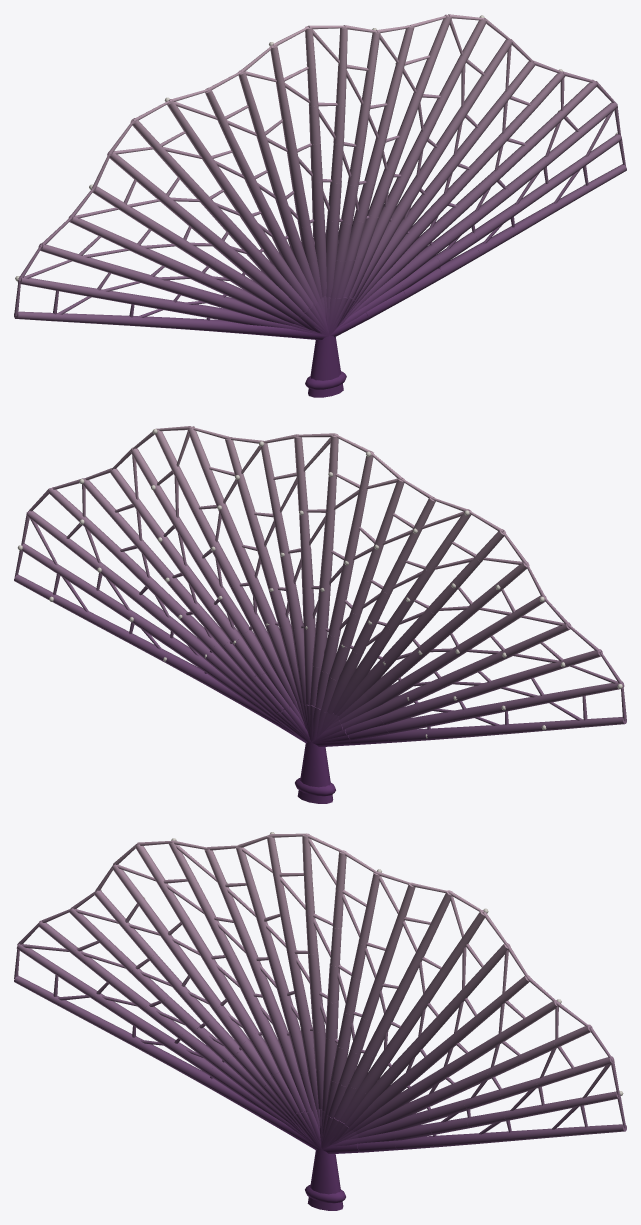
The model's file is coral_fan.glb.
3 renders of one model, top to bottom at view 1: azimuth 30°, elevation 25°; view 2: azimuth 150°, elevation 25°; view 3: azimuth 330°, elevation 25°, orthographic.
Parts seen in each view (by area): view 1: Pelagic.coral_fan.Surface; view 2: Pelagic.coral_fan.Surface; view 3: Pelagic.coral_fan.Surface.
Part boxes in pixels (x1=…): Pelagic.coral_fan.Surface: x1=14, y1=14, x2=626, y2=397; Pelagic.coral_fan.Surface: x1=14, y1=426, x2=626, y2=803; Pelagic.coral_fan.Surface: x1=14, y1=832, x2=626, y2=1210.
Bounding box in the file's own units: 2.21 × 1.28 × 0.084.
